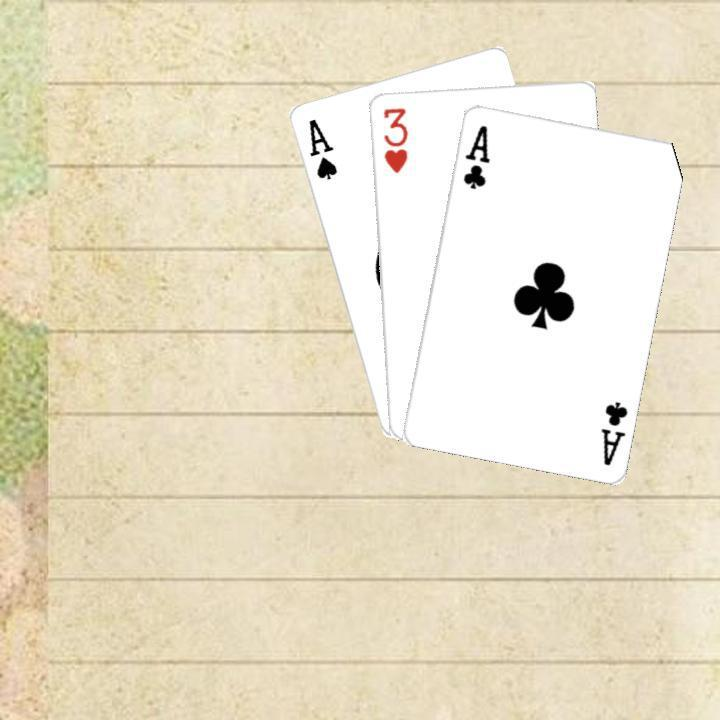3: (379, 103, 409, 175)
A: (304, 114, 339, 181), (458, 120, 491, 191), (596, 396, 629, 467)
